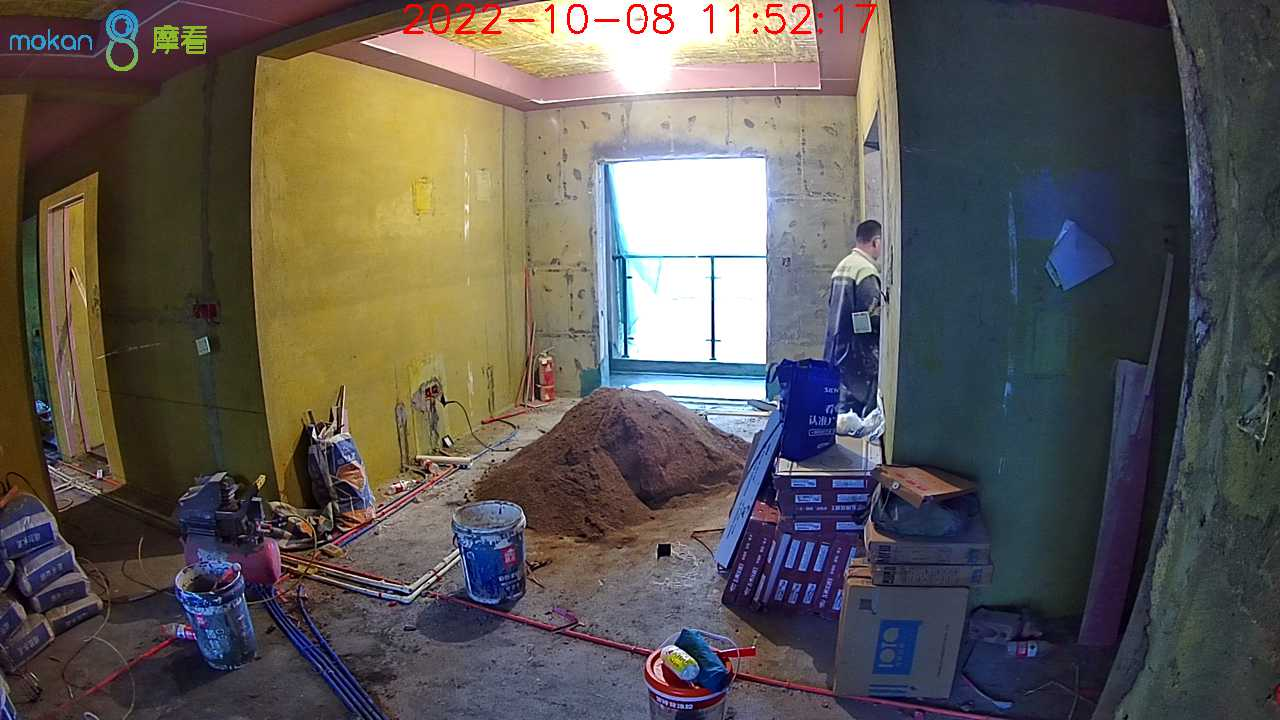people: (824, 216, 887, 417)
window: (603, 160, 767, 365)
